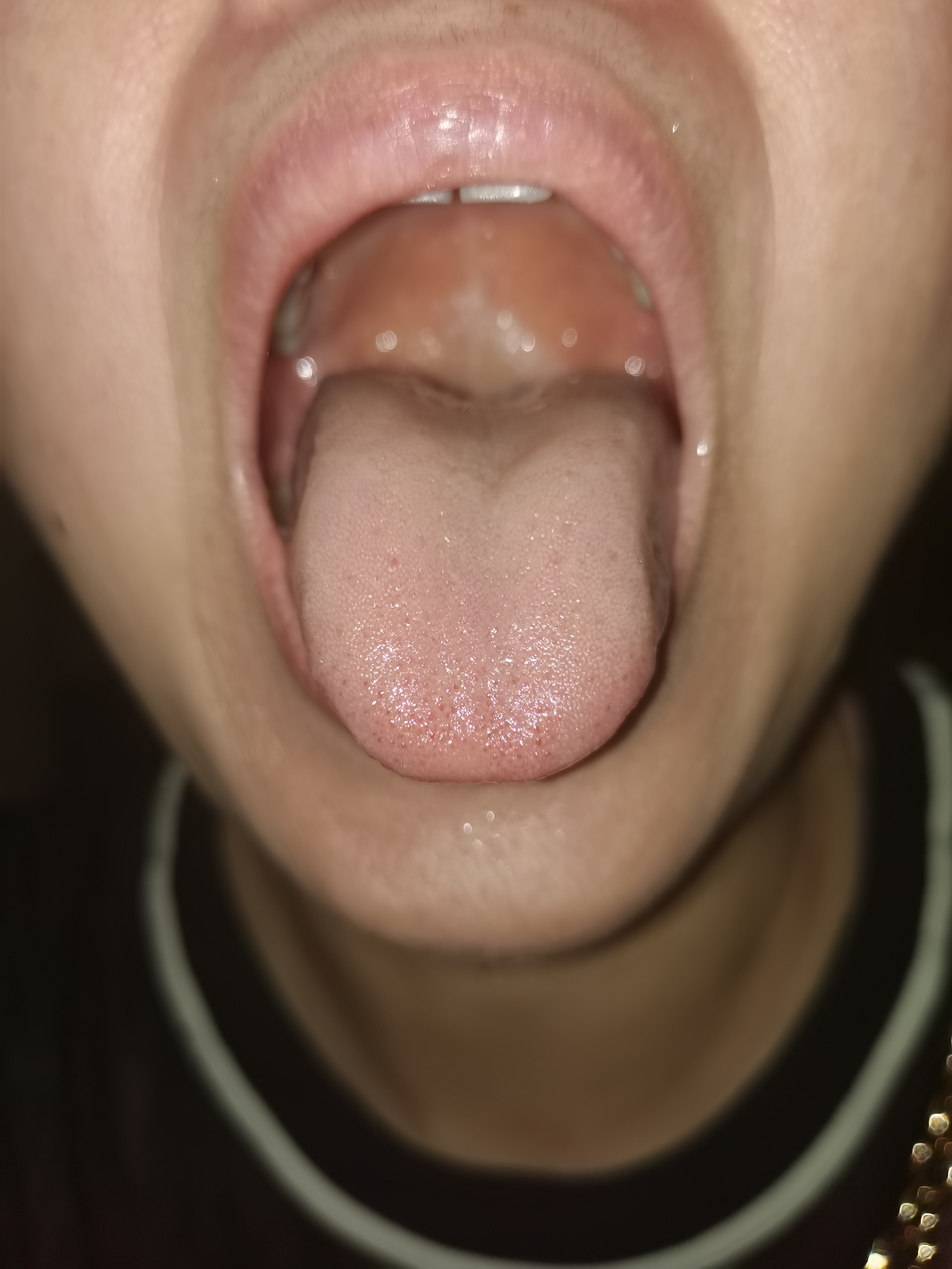baitaishe: (293, 364, 673, 782)
hongdianshe: (389, 554, 401, 568), (534, 737, 543, 748), (362, 677, 368, 688)
shenquao: (362, 365, 594, 483)
